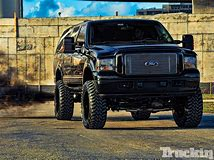smoke: (1, 71, 52, 108)
